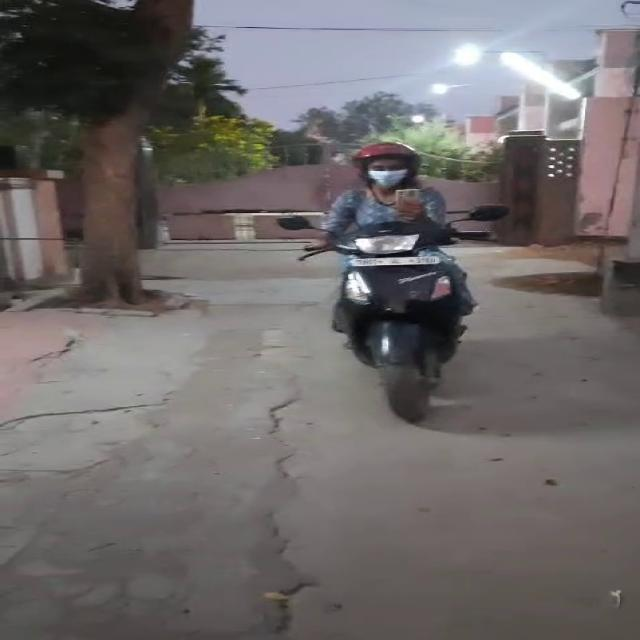USING_MOBILE: (358, 137, 450, 225)
